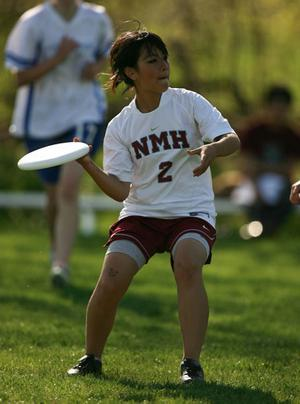person: (67, 27, 241, 386)
